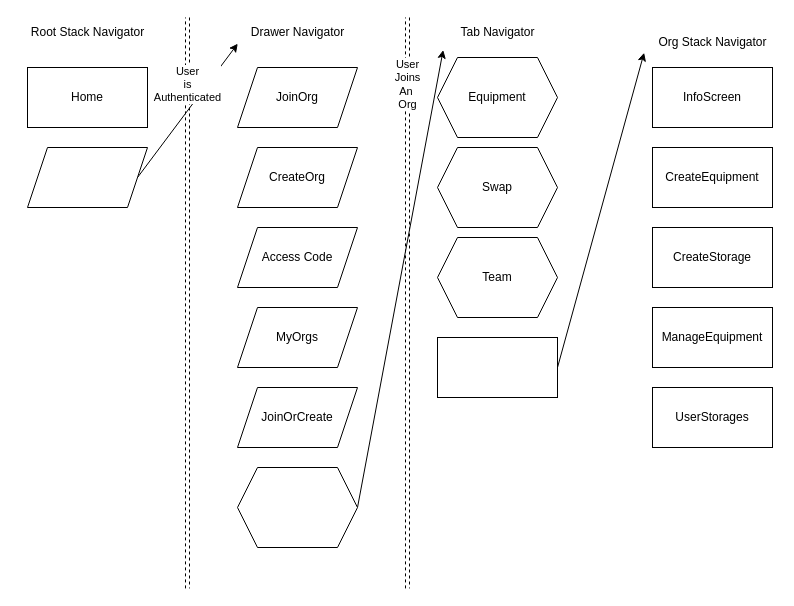
Some shapes in this 794 by 606 pixel diagram are drawn without their labels. The box of each missing label's shape, as (x1, y1, x2, y2) in pixels:
DrawerNav: (26, 146, 148, 208)
MemberTabs: (236, 466, 358, 548)
OrgInfo: (436, 336, 558, 398)
